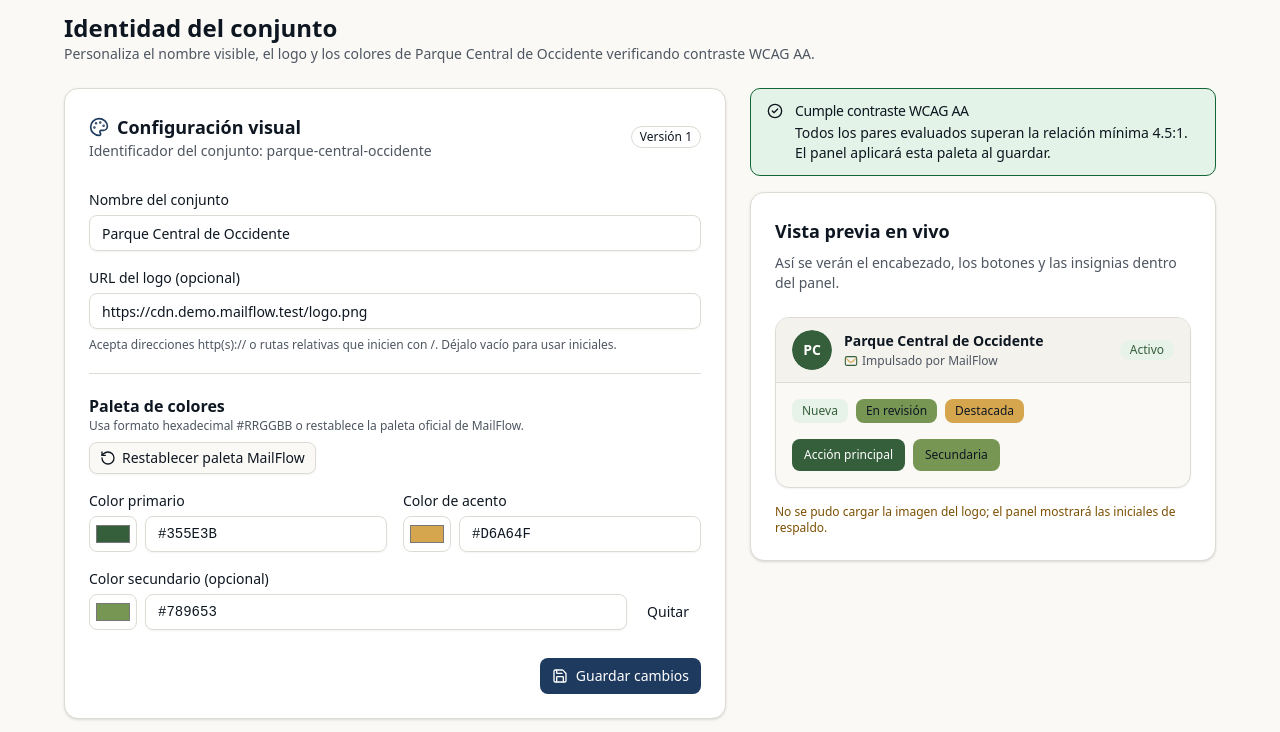
Scenario: IdentidadPage › carga datos actuales, sincroniza color picker ↔ texto y maneja fallback seguro si la imagen del logo falla
expect the field labelled "Nombre del conjunto" holds "Parque Central de Occidente": met, box [89,215,701,251]
expect the field labelled "URL del logo (opcional)" holds "https://cdn.demo.mailflow.test/logo.png": met, box [89,293,701,329]
Type "#1e3a5f" into the colour field named "selector visual de color primario" at (113, 534), box [89,516,137,552]
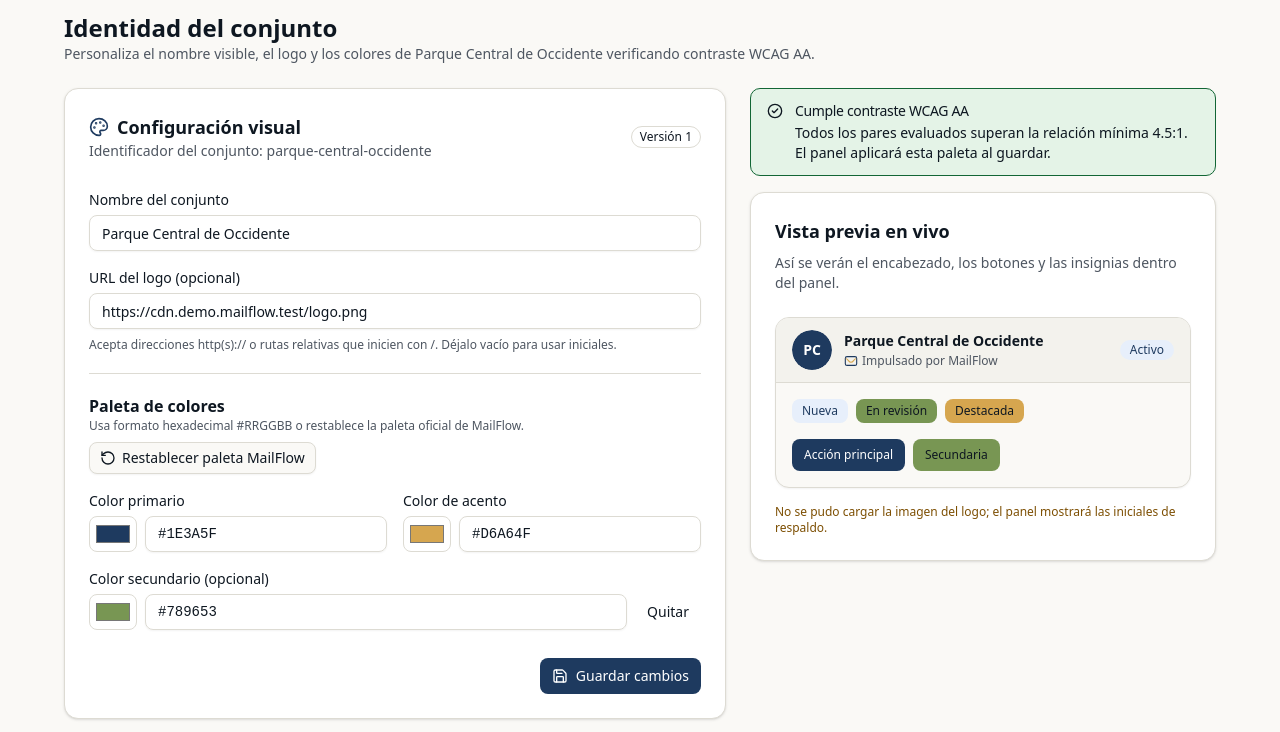
expect the field labelled "Color primario" holds "#1E3A5F": met, box [145,516,387,552]
Replace the text in the field labelled "Nombre del conjunto" with "Torres del Prado" at (395, 233), box [89,215,701,251]
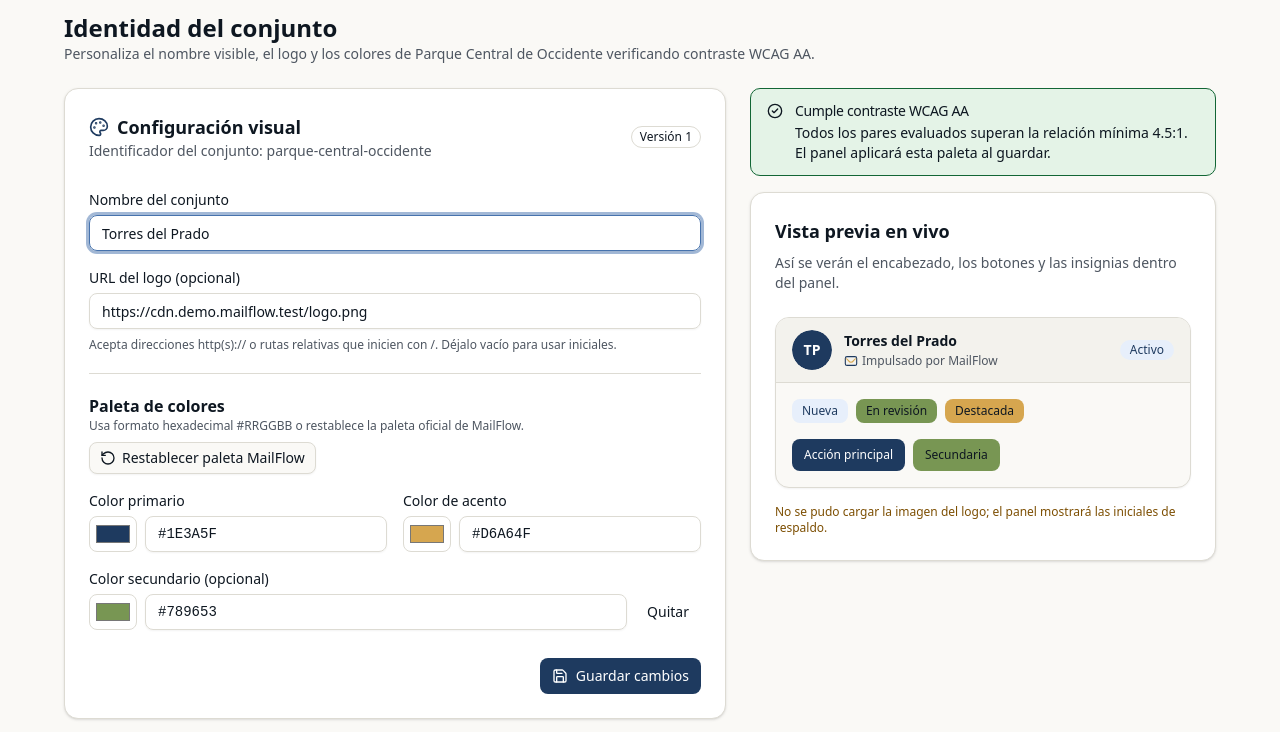
expect the text "Torres del Prado" is shown: met, box [844,331,957,350]
